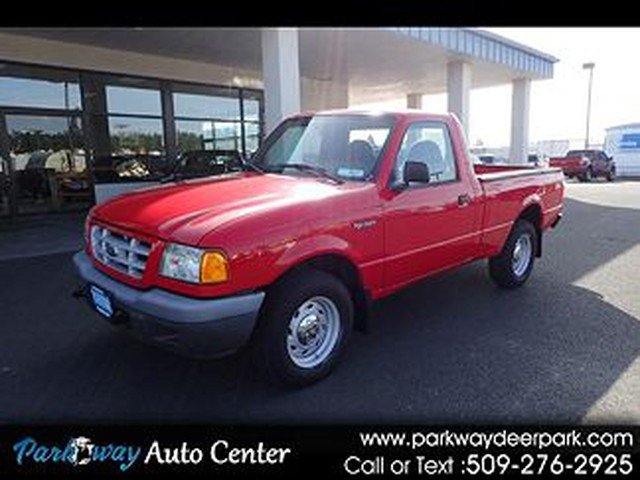Vehicle: (72, 105, 566, 380), (559, 144, 618, 183)
